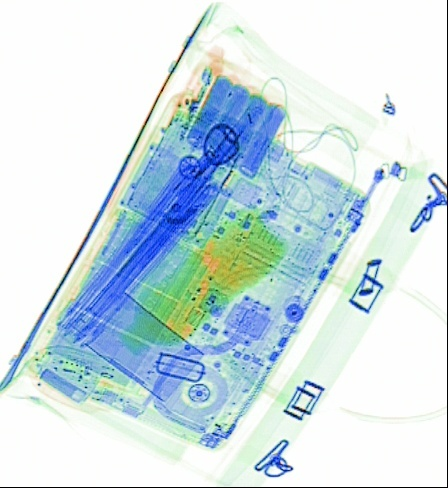powerbank: (182, 73, 288, 177)
